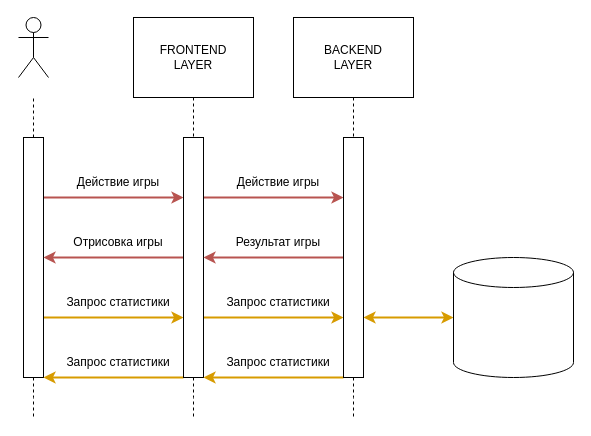
Some shapes in this 591 by 436 pixel diagram are drawn without their labels. The shapes that lost their labels are listed below. From the top down, each one's box as (x1, y1, x2, y2) in pixels, then its label:
(18, 16, 48, 78): Игрок
(452, 256, 574, 378): DATABASE
